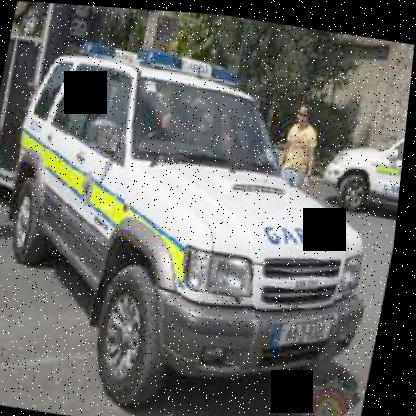emergency: (0, 17, 413, 415)
